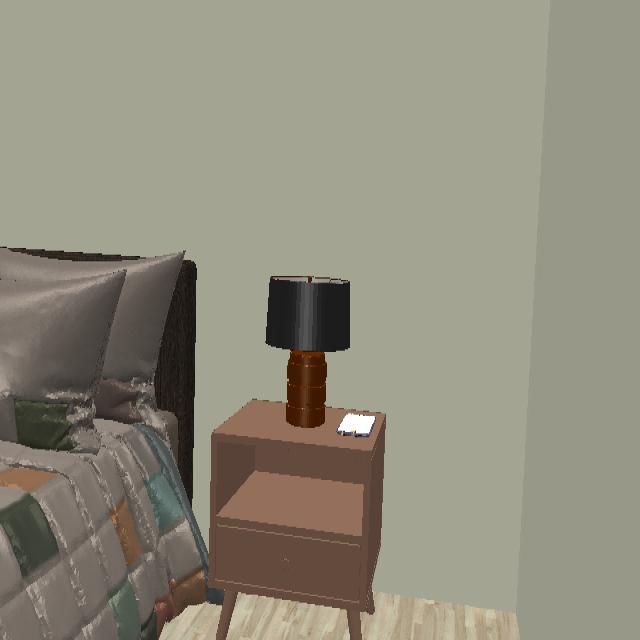bed: (0, 260, 225, 640)
book: (338, 412, 375, 437)
lamp: (265, 275, 352, 428)
nighttable: (208, 400, 386, 640)
pillow: (0, 248, 127, 452), (96, 252, 185, 440)
